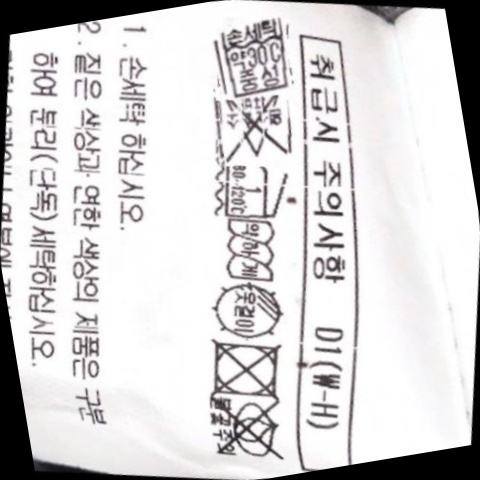DN_tumble_dry: (195, 327, 293, 410)
hand_wash: (207, 14, 301, 102)
iron_low: (212, 154, 292, 228)
line_dry_in_shade: (202, 274, 294, 348)
wring: (215, 212, 285, 290)
